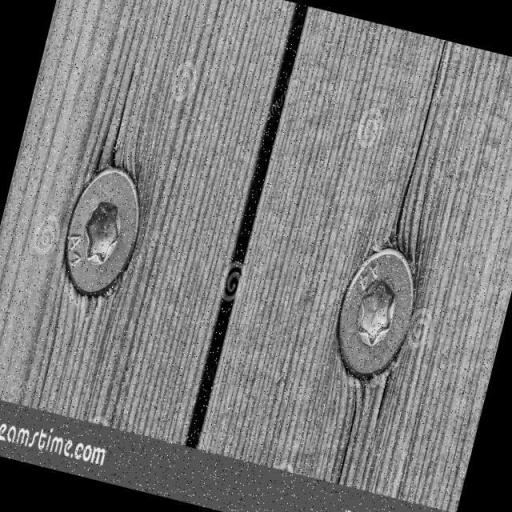Torx: (312, 234, 431, 386), (57, 164, 145, 294)
